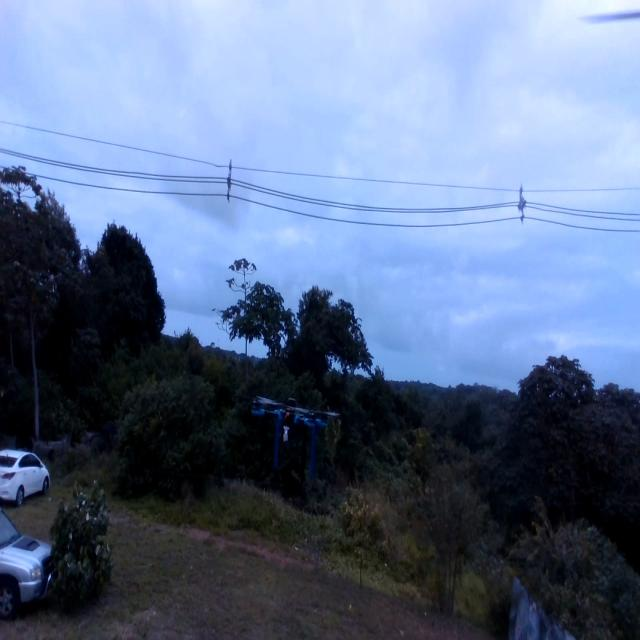-uav-: (245, 384, 347, 487)
